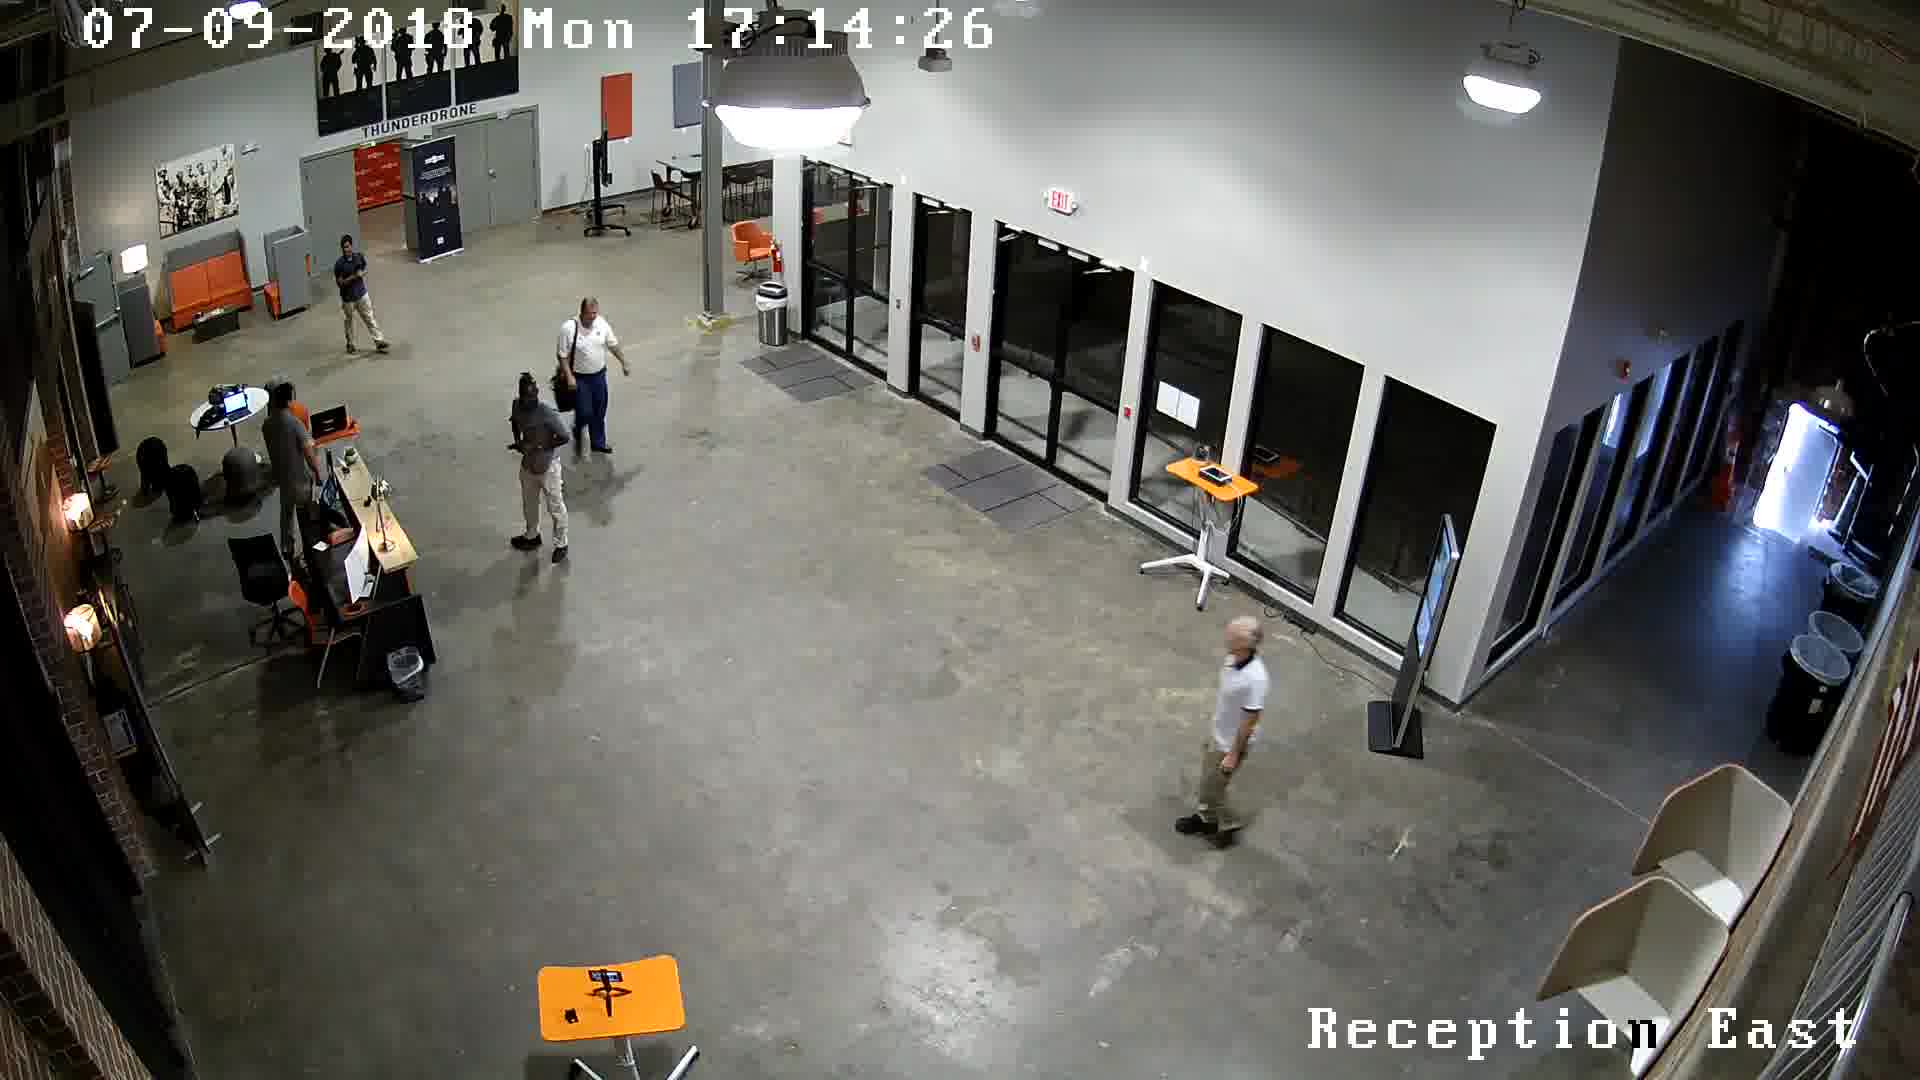pistol: (497, 434, 537, 468)
